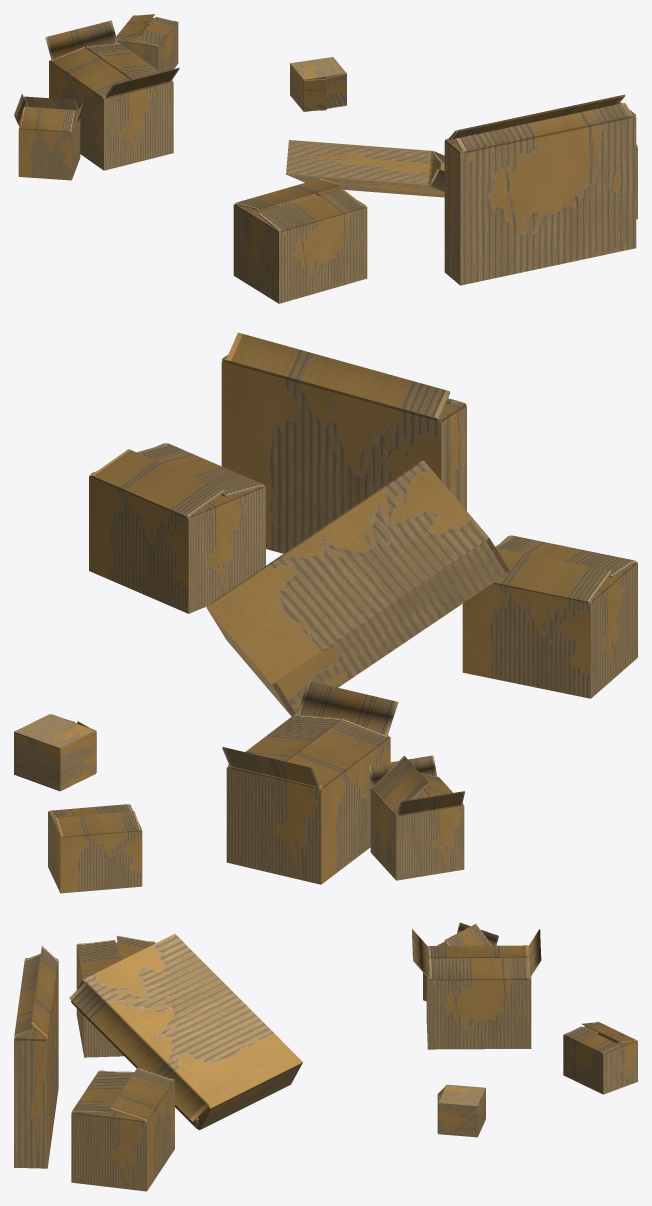
File: CardBox-ver02.fbx
3 views of the same model, one above another, from view 1: azimuth 30°, elevation 25°; view 2: azimuth 150°, elevation 25°; view 3: azimuth 270°, elevation 25° (orthographic). The views are drawn at different scales.
Visible parts, largest first — view 1: CardBox_ver02; view 2: CardBox_ver02; view 3: CardBox_ver02.
Part boxes in pixels (x1,y1,x2,y2): CardBox_ver02: (14,14,637,303); CardBox_ver02: (14,332,637,893); CardBox_ver02: (14,922,637,1191).
Size of the model in its own units: 222 by 70.98 by 278.
1 material, 1 textured.
